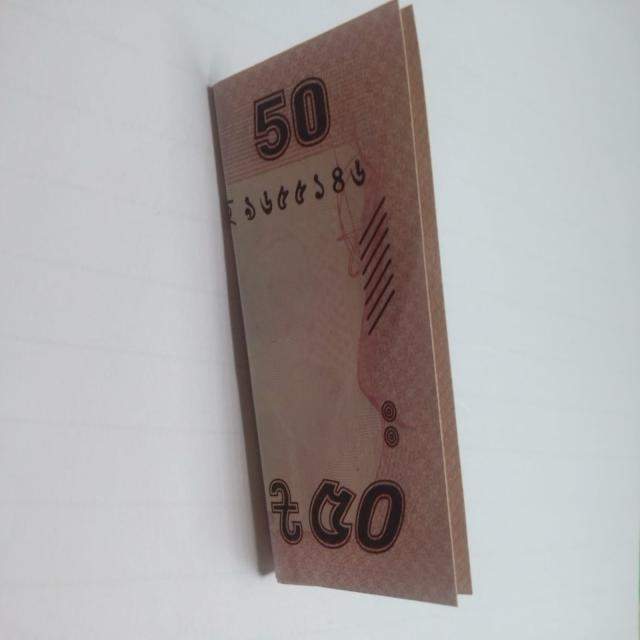Taka: (213, 31, 478, 606)
